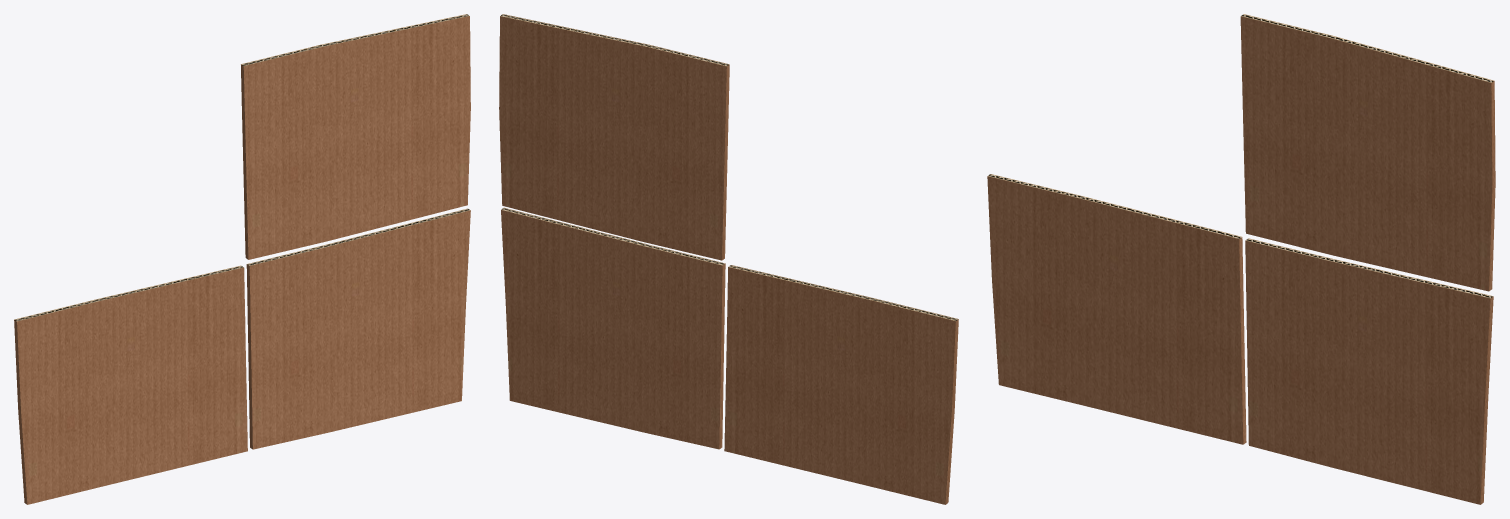
Rendered from RoomBlockers.FBX.
The picture shows the model from 3 angles, left to right: view 1: azimuth 30°, elevation 25°; view 2: azimuth 150°, elevation 25°; view 3: azimuth 330°, elevation 25°; orthographic projection. The views are drawn at different scales.
Parts seen in each view (by area): view 1: roomBlocker1, roomBlocker2, roomBlocker3; view 2: roomBlocker1, roomBlocker2, roomBlocker3; view 3: roomBlocker1, roomBlocker2, roomBlocker3.
Part boxes in pixels (bbox=[...]): roomBlocker1: bbox=[241, 14, 470, 259]; roomBlocker2: bbox=[14, 265, 247, 504]; roomBlocker3: bbox=[246, 208, 470, 449]; roomBlocker1: bbox=[499, 14, 729, 260]; roomBlocker2: bbox=[724, 265, 958, 504]; roomBlocker3: bbox=[501, 207, 725, 449]; roomBlocker1: bbox=[1240, 14, 1495, 291]; roomBlocker2: bbox=[987, 174, 1246, 444]; roomBlocker3: bbox=[1245, 238, 1493, 504].
Size of the model in its own units: 80.4 by 65.41 by 1.16.
